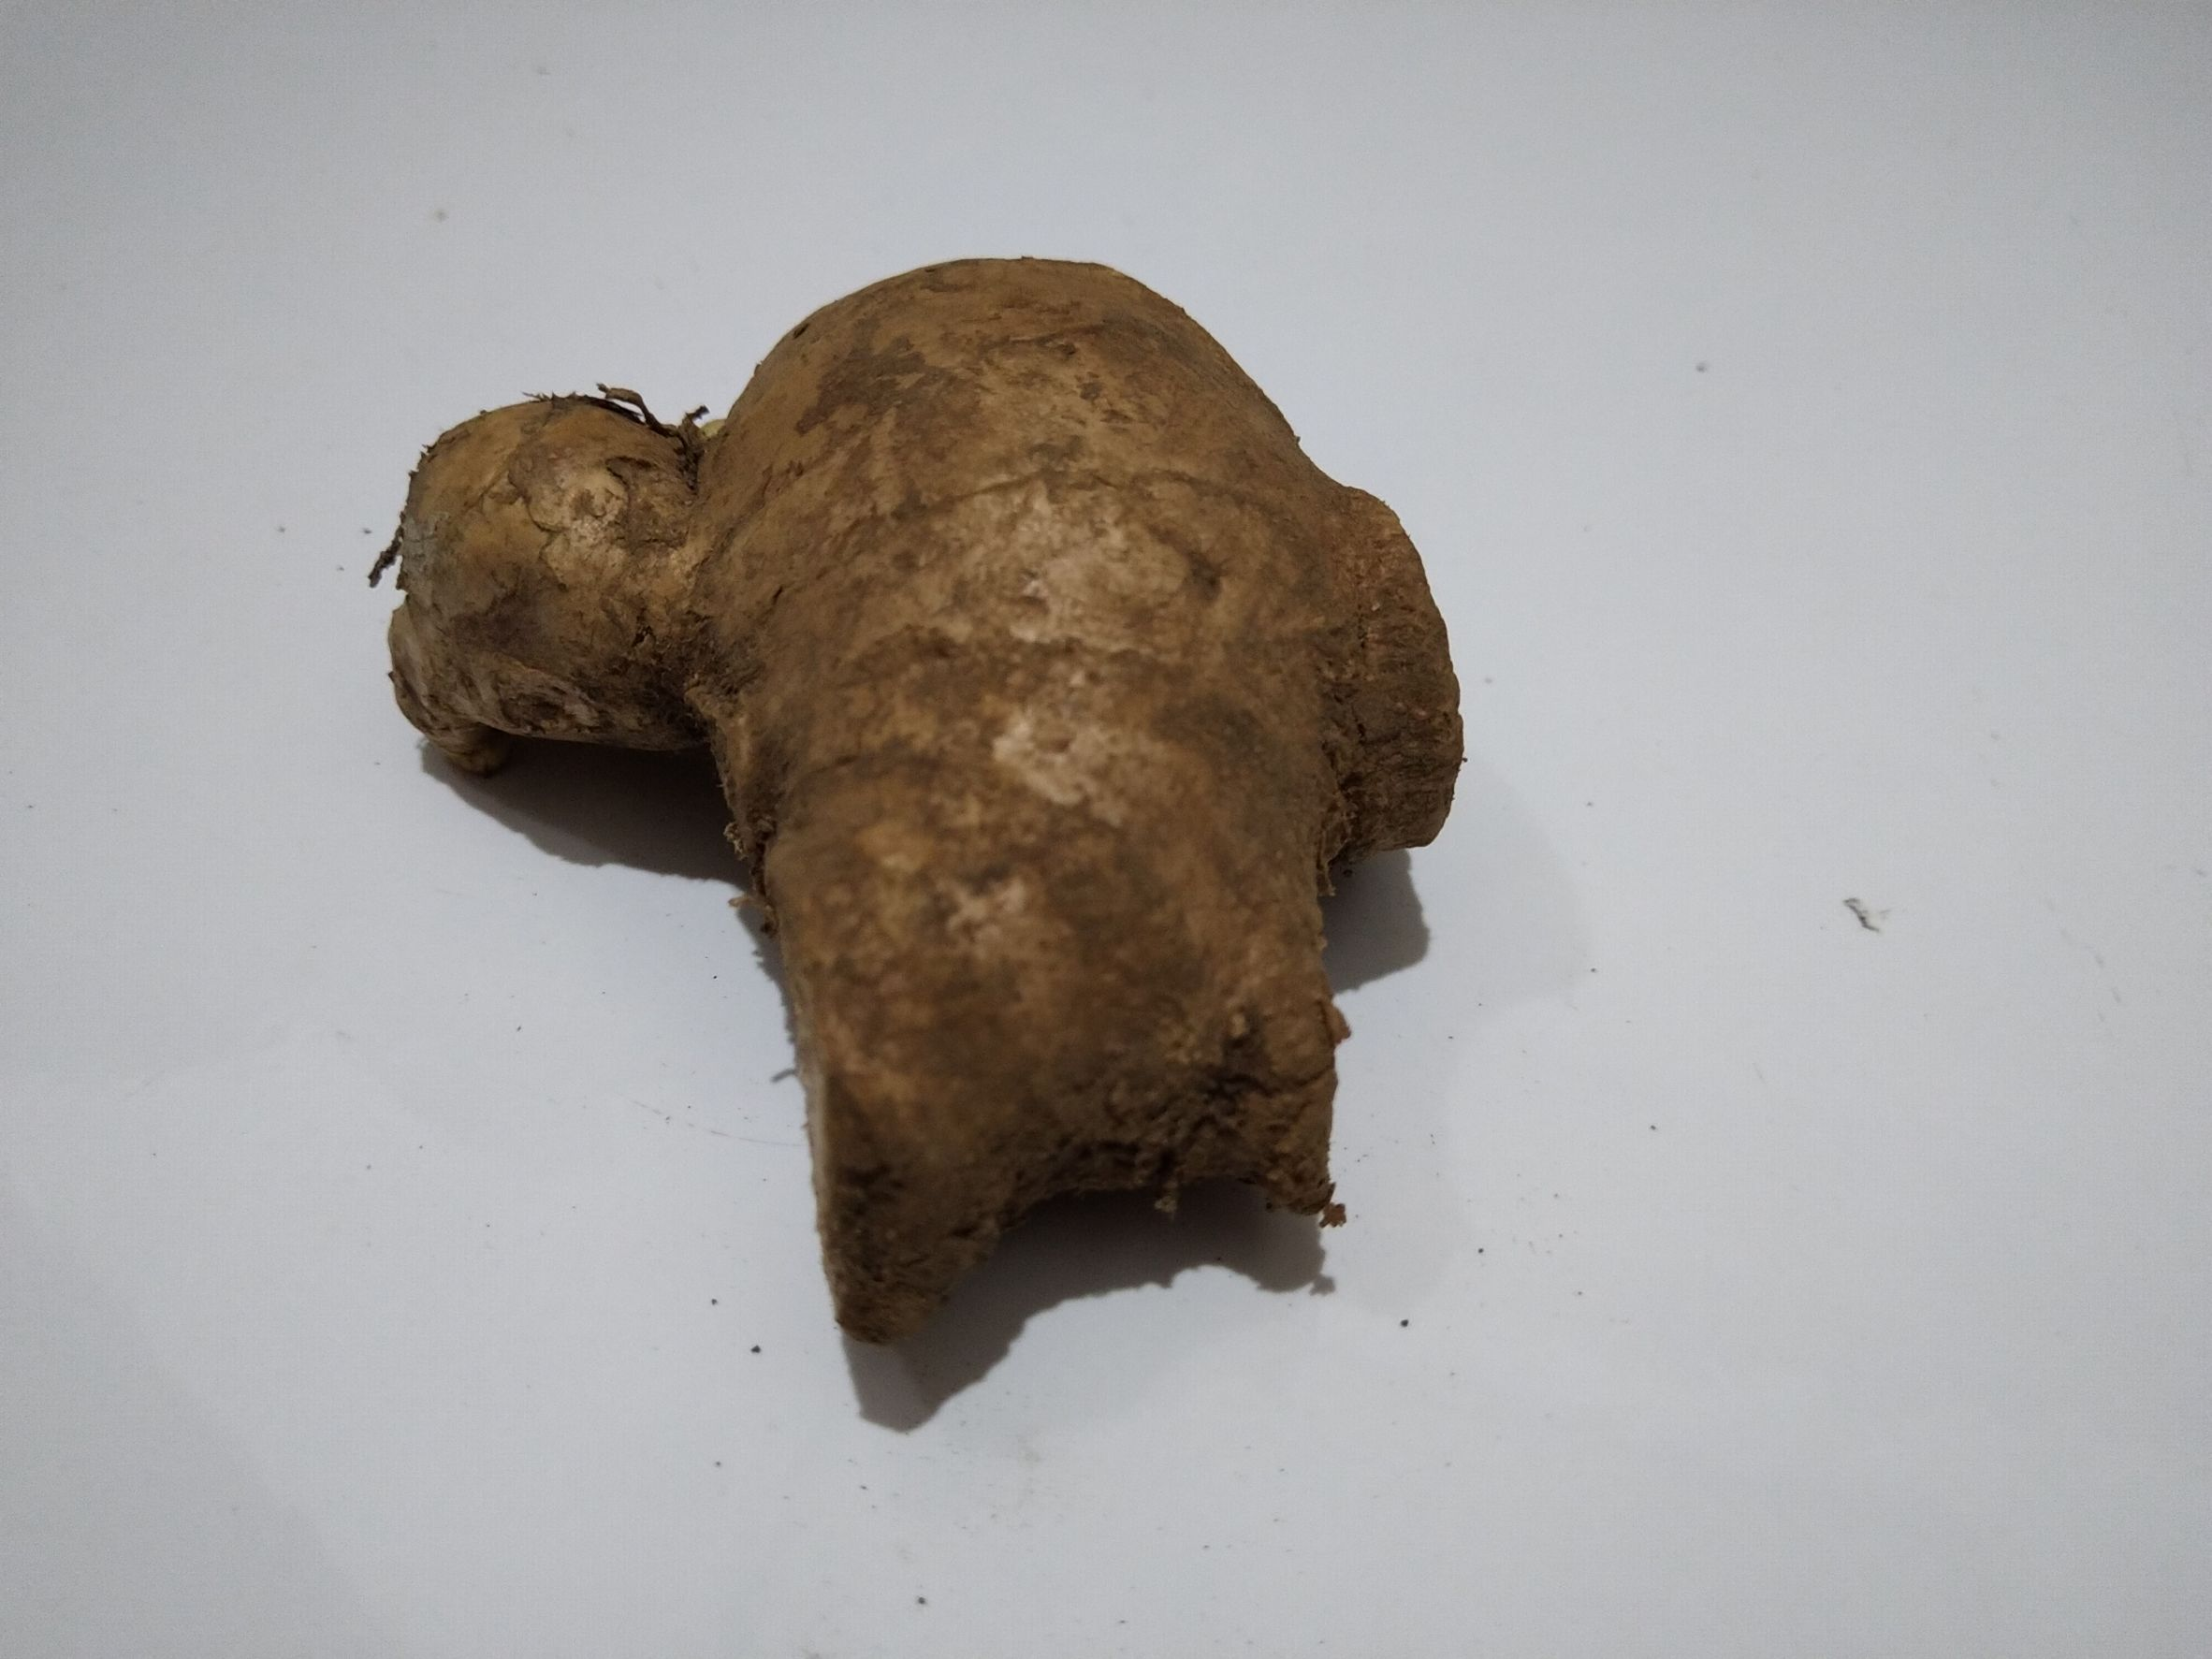Jahe: (394, 260, 1474, 1396)
